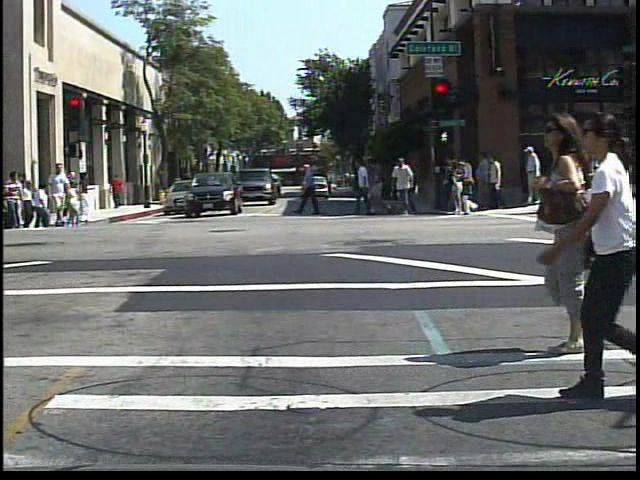person: (544, 107, 630, 404), (523, 112, 595, 353), (46, 163, 73, 230), (5, 166, 27, 232), (527, 146, 543, 205), (109, 174, 128, 211), (170, 169, 188, 199)
